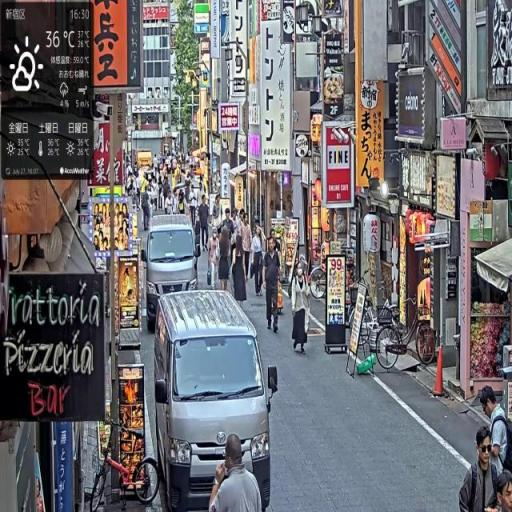person: (210, 435, 263, 512), (460, 427, 499, 512), (481, 387, 508, 474), (292, 264, 312, 355), (264, 238, 282, 334), (232, 236, 248, 308), (252, 226, 266, 297), (490, 471, 512, 512), (219, 228, 232, 292), (241, 212, 253, 276), (209, 231, 220, 290), (199, 196, 210, 251), (212, 195, 223, 233), (189, 185, 198, 227), (143, 190, 152, 231), (195, 221, 202, 255)
